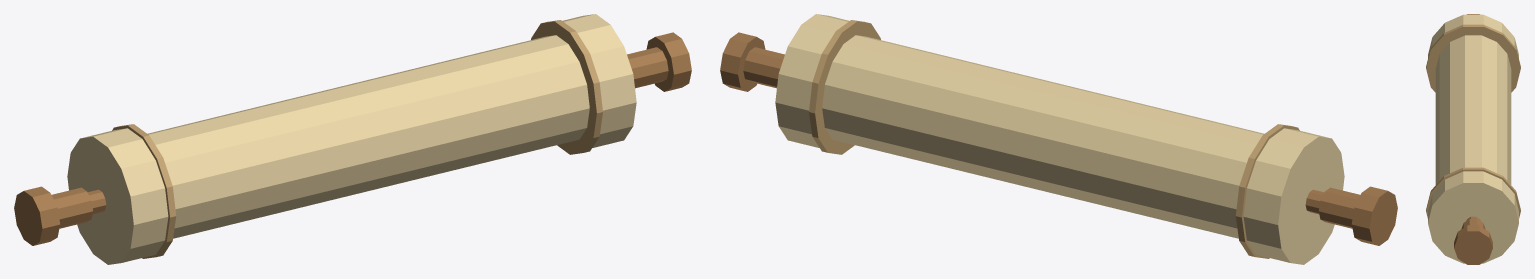
The model's file is CollectionPapyrus.fbx.
3 views of the same model, side by side, from view 1: azimuth 30°, elevation 25°; view 2: azimuth 150°, elevation 25°; view 3: azimuth 270°, elevation 25° (orthographic). The views are drawn at different scales.
Visible parts, largest first — view 1: Low Poly Cylindrical Papyrus Body, Left Rolled Paper End, Right Rolled Paper End, Right Dark Paper Ring, Left Wooden Knob, Right Wooden Knob, Left Dark Paper Ring, Right Wooden Handle Grip, Left Wooden Handle Grip; view 2: Low Poly Cylindrical Papyrus Body, Left Rolled Paper End, Right Rolled Paper End, Right Dark Paper Ring, Left Wooden Knob, Right Wooden Knob, Left Dark Paper Ring, Right Wooden Handle Grip, Left Wooden Handle Grip; view 3: Low Poly Cylindrical Papyrus Body, Right Rolled Paper End, Left Dark Paper Ring, Right Wooden Knob, Left Rolled Paper End, Right Dark Paper Ring, Right Wooden Handle Grip.
Boxes of the visible parts, x1,y1,x2,y2 form: Low Poly Cylindrical Papyrus Body: (147, 35, 589, 238); Left Rolled Paper End: (67, 128, 168, 264); Right Rolled Paper End: (562, 14, 636, 147); Right Dark Paper Ring: (531, 20, 602, 154); Left Wooden Knob: (14, 186, 60, 245); Right Wooden Knob: (646, 32, 691, 91); Left Dark Paper Ring: (112, 124, 176, 258); Right Wooden Handle Grip: (627, 47, 668, 88); Left Wooden Handle Grip: (51, 187, 93, 228); Low Poly Cylindrical Papyrus Body: (822, 35, 1264, 238); Left Rolled Paper End: (1243, 128, 1344, 264); Right Rolled Paper End: (775, 14, 849, 147); Right Dark Paper Ring: (809, 20, 880, 154); Left Wooden Knob: (1351, 186, 1397, 245); Right Wooden Knob: (720, 32, 765, 91); Left Dark Paper Ring: (1235, 124, 1299, 258); Right Wooden Handle Grip: (743, 47, 784, 88); Left Wooden Handle Grip: (1318, 187, 1360, 228); Low Poly Cylindrical Papyrus Body: (1435, 35, 1511, 184); Right Rolled Paper End: (1428, 171, 1518, 263); Left Dark Paper Ring: (1426, 24, 1520, 92); Right Wooden Knob: (1454, 225, 1492, 264); Left Rolled Paper End: (1428, 14, 1518, 57); Right Dark Paper Ring: (1426, 167, 1520, 218); Right Wooden Handle Grip: (1461, 219, 1485, 229).
Bounding box in the file's own units: 846 × 152 × 156.
